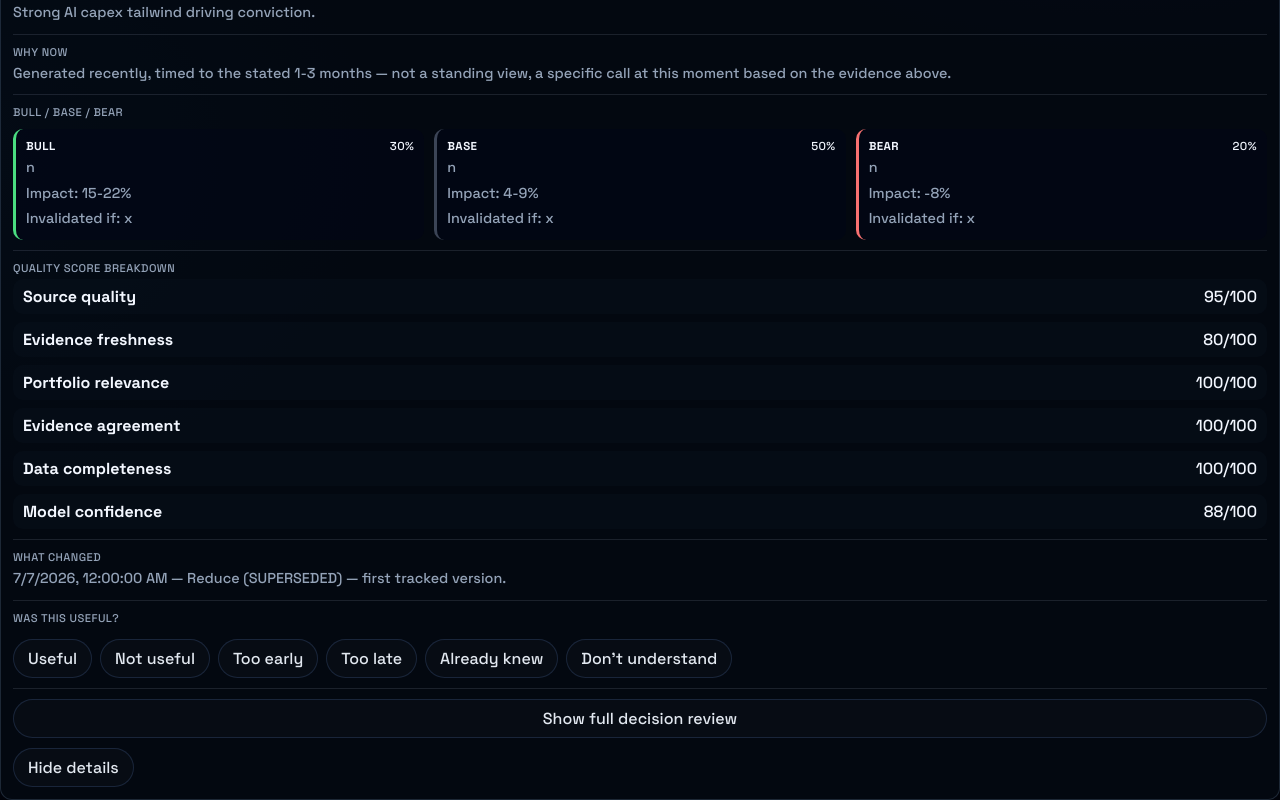
Test case: RecommendationCard › Sprint 32 Priority 5 — Decision Review never re-renders the timeline a second time (already shown in 'What changed' above)
(page scrolled)
Check: the text "What changed" is shown, box 13,550 -> 101,564
Click the button "Show full decision review" at (640, 718), box 13,699 -> 1267,738
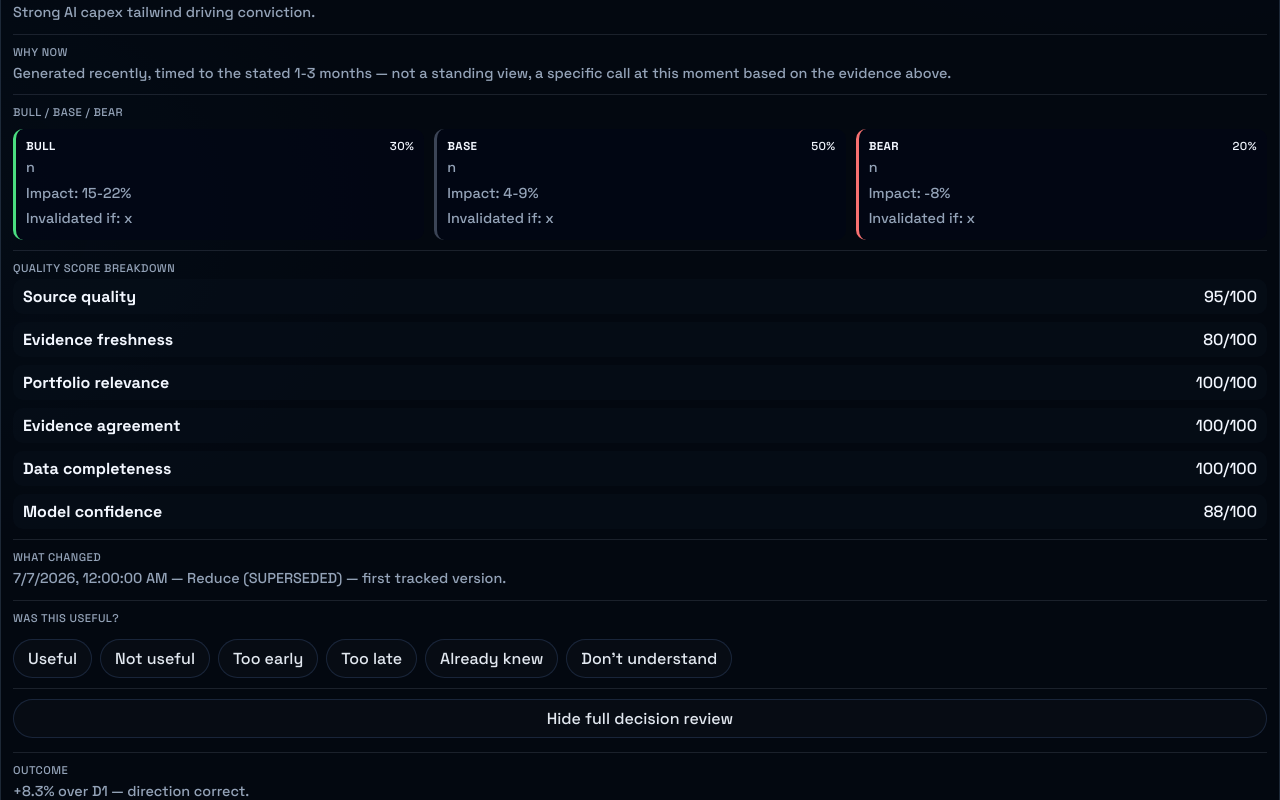
Check: the text "Outcome" is shown, box 13,763 -> 68,777
